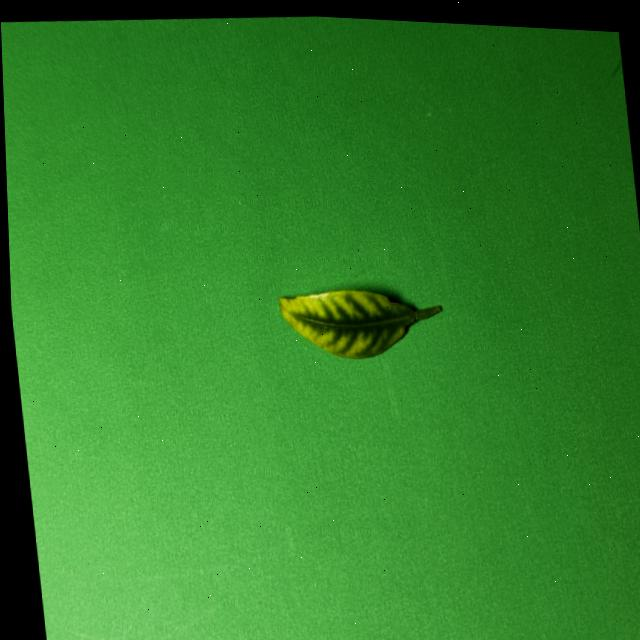greening: (278, 289, 440, 358)
